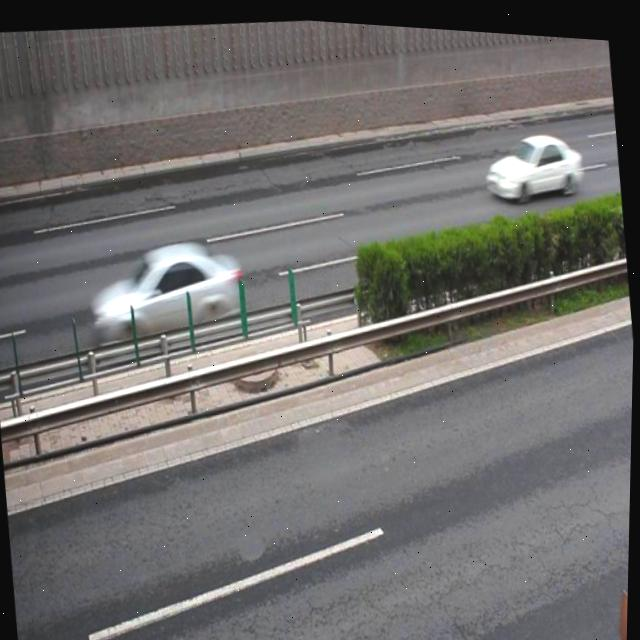car: (83, 225, 251, 352), (480, 117, 585, 201)
